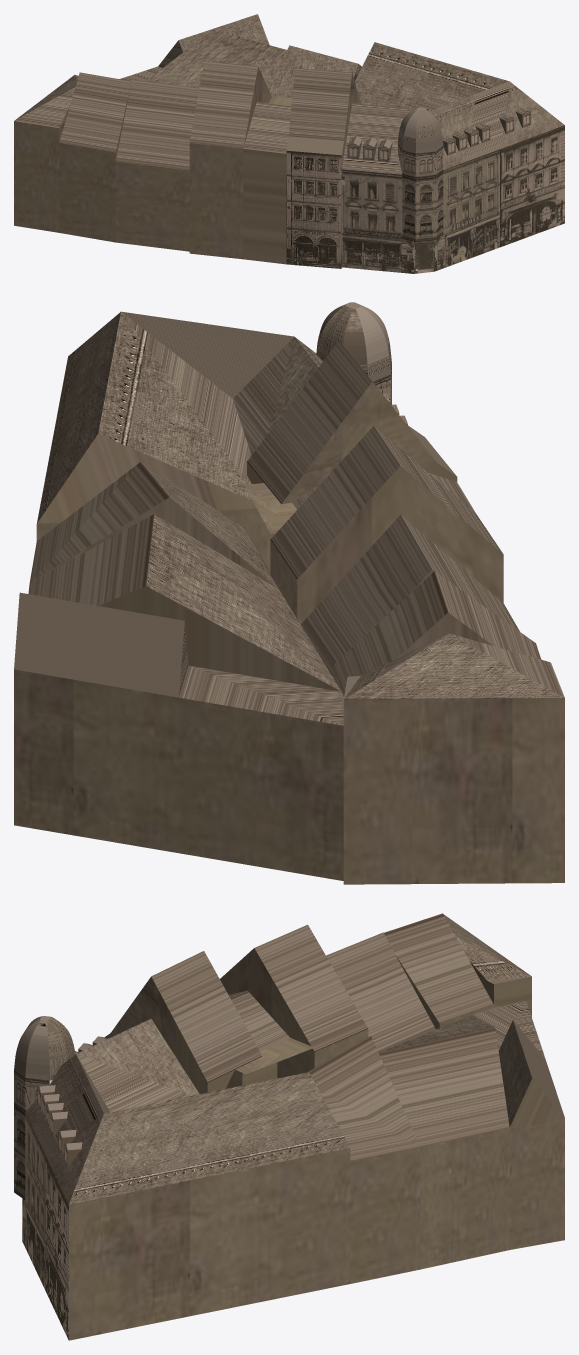
File: olymp.glb
The picture shows the model from 3 angles, top to bottom: view 1: azimuth 30°, elevation 25°; view 2: azimuth 150°, elevation 25°; view 3: azimuth 270°, elevation 25°; orthographic projection. The views are drawn at different scales.
Parts seen in each view (by area): view 1: Batched_Building__Teil_2_BD.1; view 2: Batched_Building__Teil_2_BD.1; view 3: Batched_Building__Teil_2_BD.1.
Part boxes in pixels (x1=…): Batched_Building__Teil_2_BD.1: x1=14, y1=14, x2=564, y2=273; Batched_Building__Teil_2_BD.1: x1=14, y1=302, x2=564, y2=884; Batched_Building__Teil_2_BD.1: x1=14, y1=913, x2=564, y2=1340.
Bounding box in the file's own units: 53.21 × 21.4 × 44.04.
Materials: 23 (22 with a texture image).
